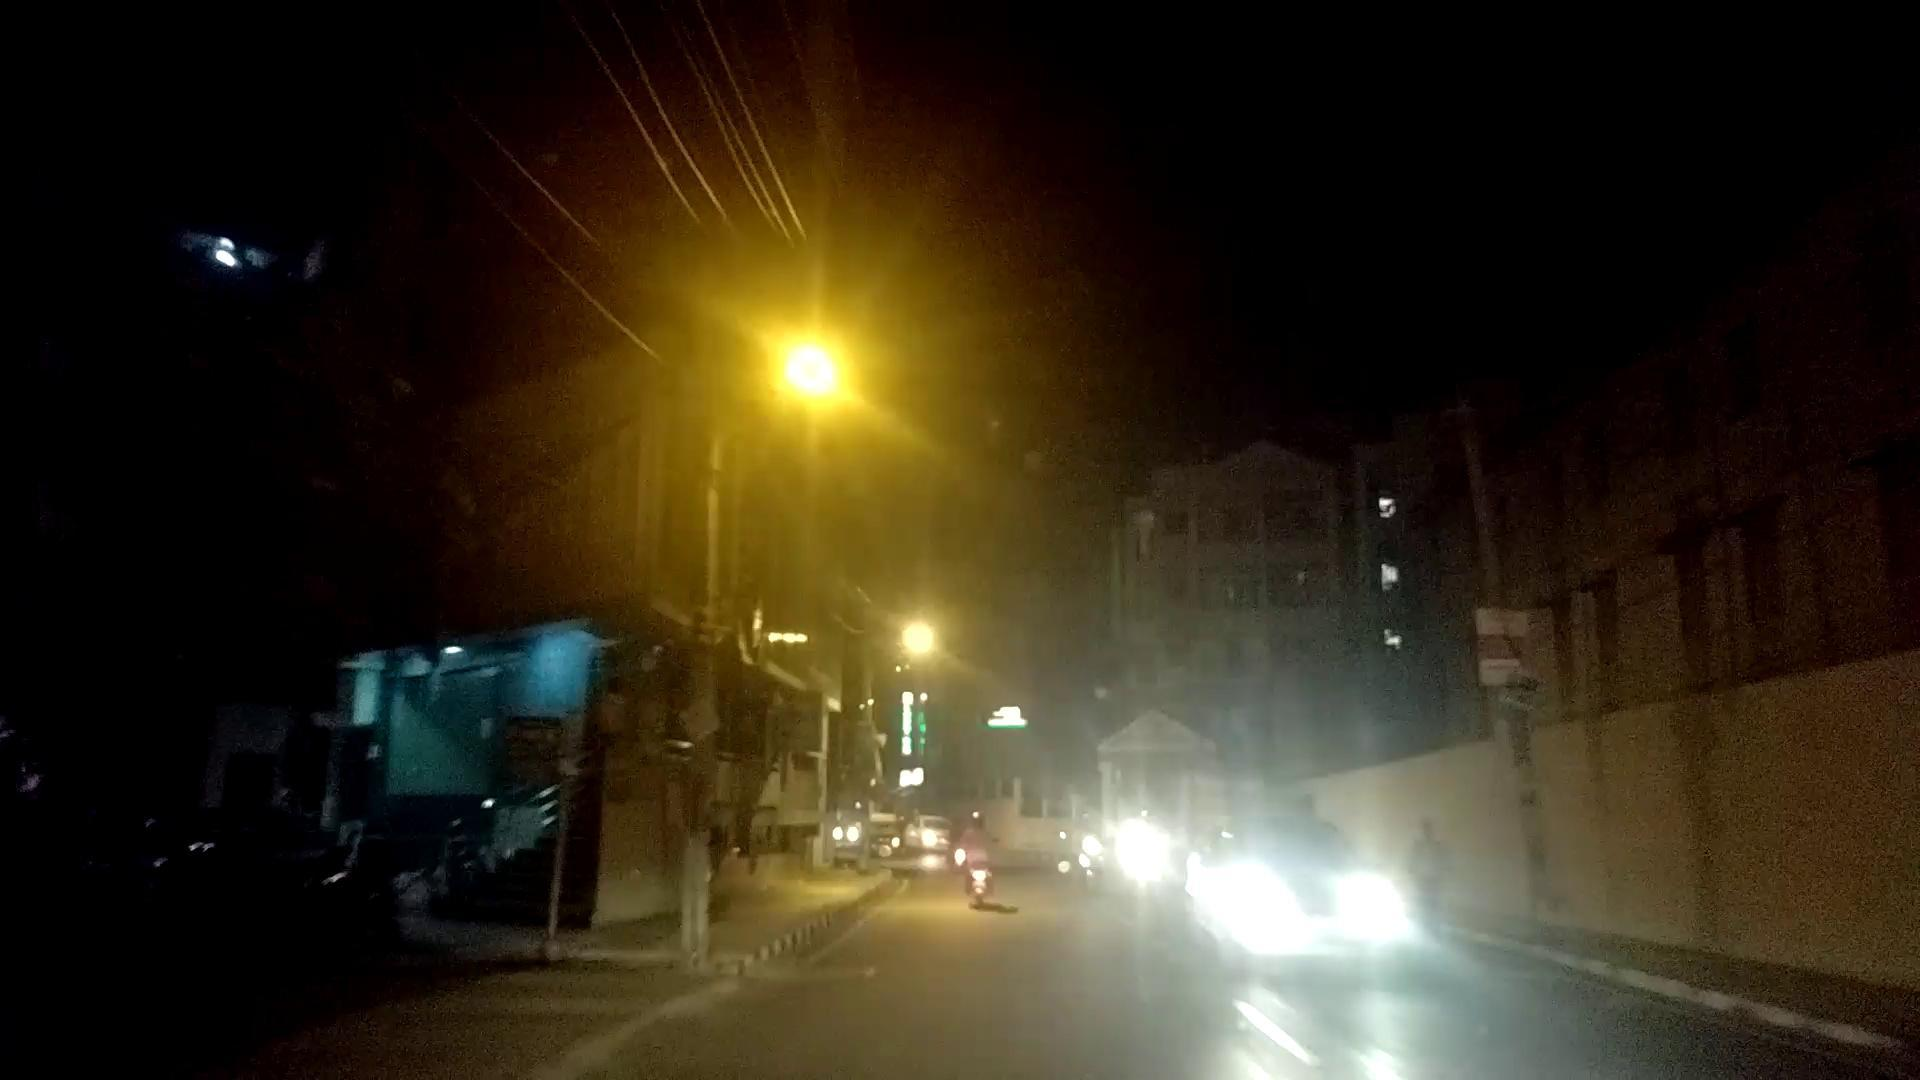on: (580, 232, 1031, 547)
